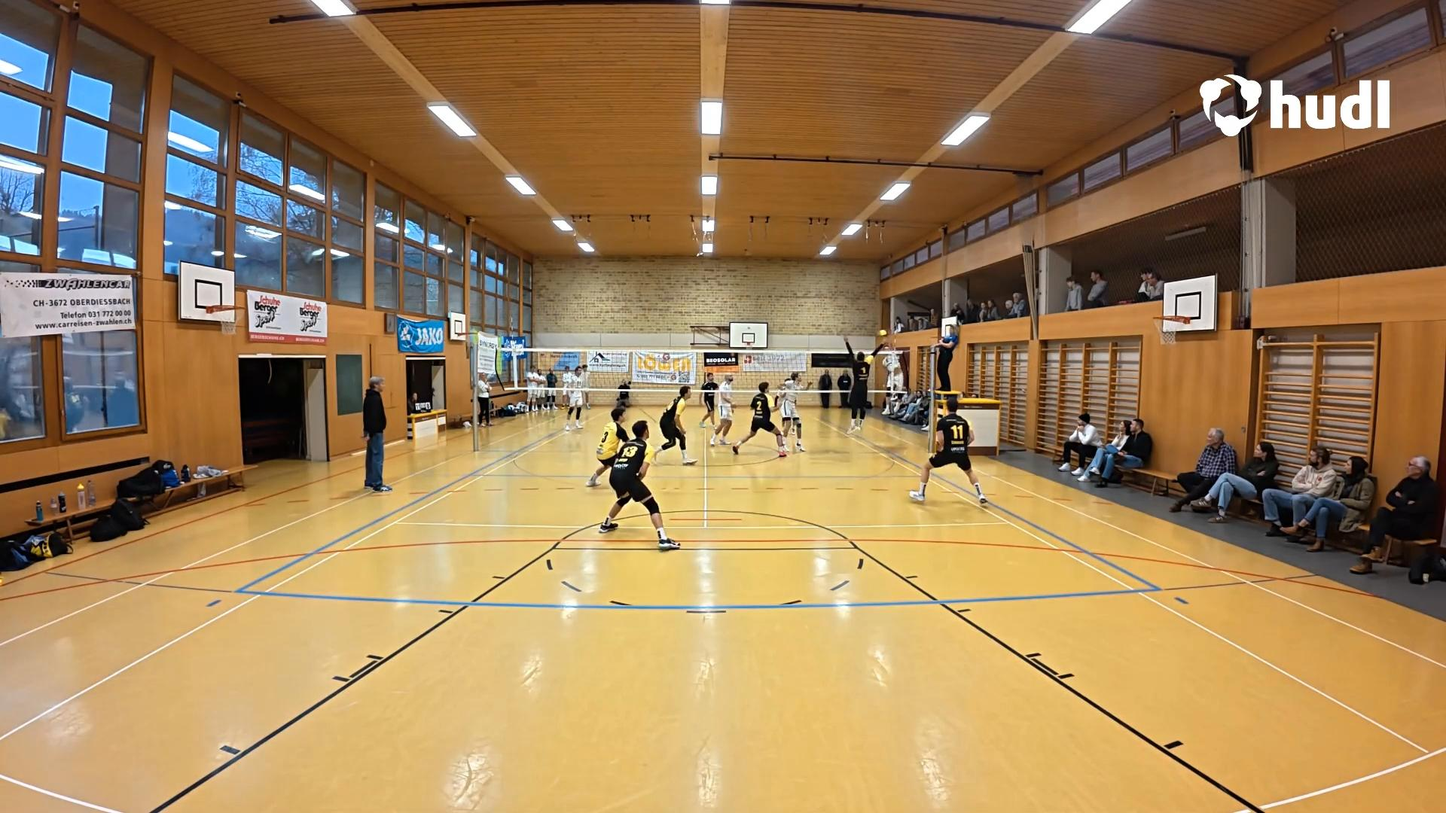Attack: (878, 330, 904, 414)
Block: (834, 331, 887, 433)
Player: (599, 422, 680, 550), (910, 399, 985, 503), (737, 381, 792, 458), (585, 402, 630, 489), (653, 386, 697, 465), (778, 371, 807, 455), (708, 370, 737, 453), (562, 365, 587, 435), (607, 380, 636, 437), (696, 368, 719, 433)
ball: (879, 327, 888, 340)
